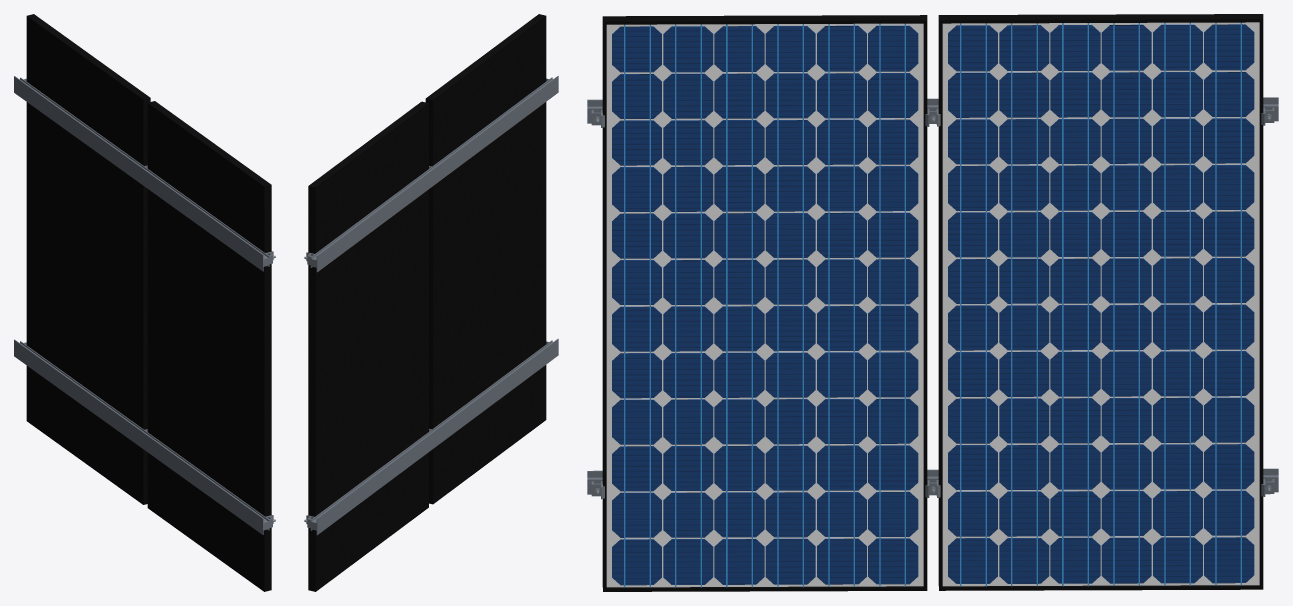
File: Crystal2.obj
3 renders of one model, left to right at view 1: azimuth 30°, elevation 25°; view 2: azimuth 150°, elevation 25°; view 3: azimuth 270°, elevation 25°, orthographic. The views are drawn at different scales.
Parts seen in each view (by area): view 1: panel, Default; view 2: panel, Default; view 3: small_032panels, panel, wire, Default.
Boxes of the visible parts, box(x1,y1,x2,y2) form: panel: box(26, 14, 271, 591); Default: box(14, 76, 275, 534); panel: box(308, 14, 546, 591); Default: box(304, 76, 558, 535); small_032panels: box(612, 24, 1254, 585); panel: box(602, 14, 1263, 591); wire: box(624, 22, 1241, 587); Default: box(587, 97, 1278, 499).
Bounding box in the file's own units: 7.65 × 152 × 167.
Materials: 2 (2 with a texture image).
